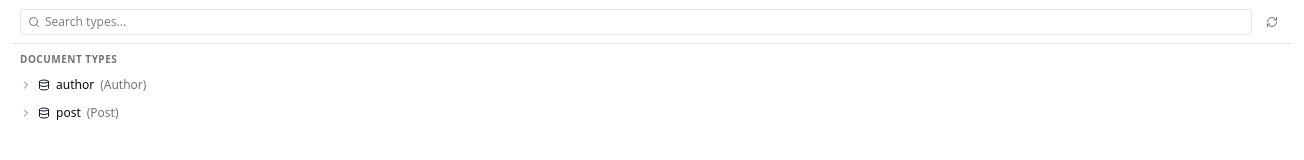
Test: SchemaPanel › filters types by search query
Type "post" into the field with placeholder "Search types..." at (636, 22), box [20,9,1252,35]
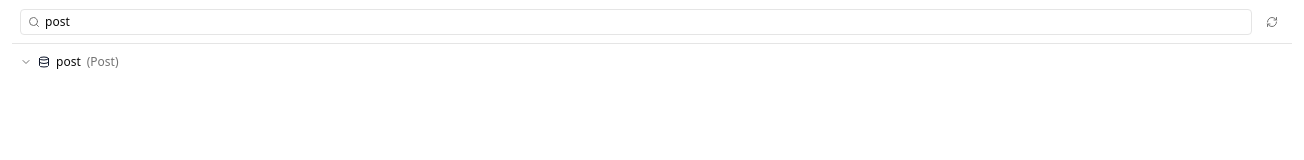
expect the text "post" is shown: met, box [56,54,81,70]
expect the button "author" is gone: met
